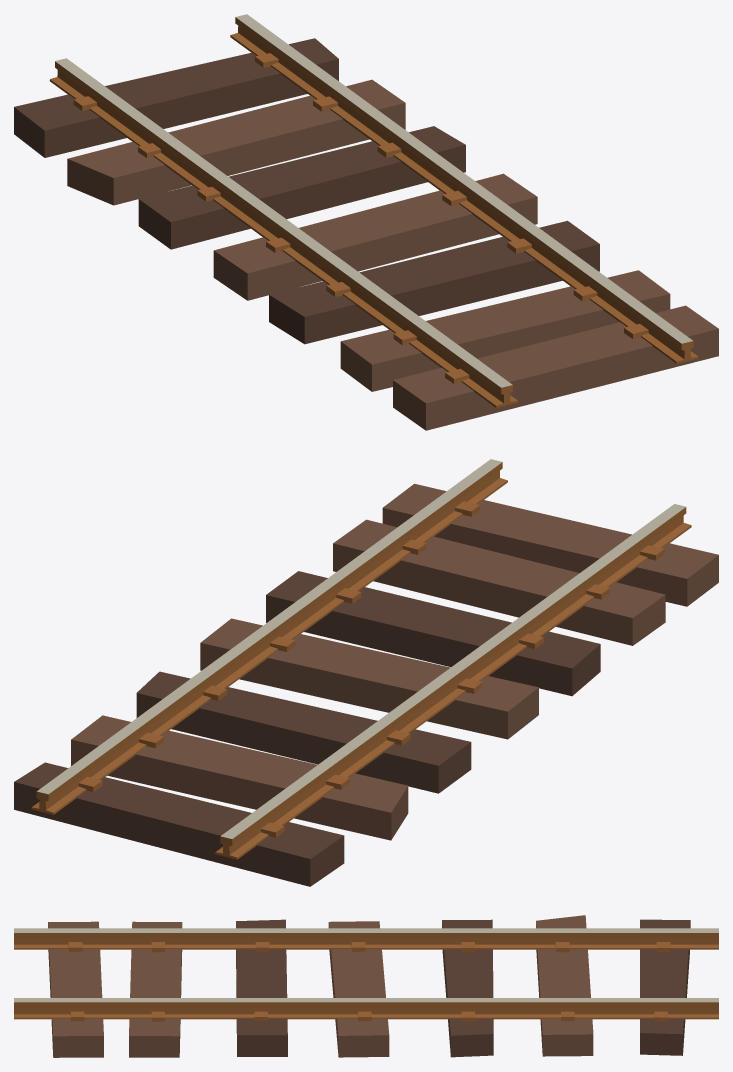
The model's file is Train Track 6 M V01.glb.
3 views of the same model, one above another, from view 1: azimuth 30°, elevation 25°; view 2: azimuth 150°, elevation 25°; view 3: azimuth 270°, elevation 25° (orthographic). The views are drawn at different scales.
Visible parts, largest first — view 1: Train Track 6 M v01; view 2: Train Track 6 M v01; view 3: Train Track 6 M v01.
Part boxes in pixels (box(x1,y1,x2,y2)): Train Track 6 M v01: box(14, 14, 718, 430); Train Track 6 M v01: box(14, 459, 718, 886); Train Track 6 M v01: box(14, 915, 718, 1057).
Size of what is drawn, in the model's own units: 2.44 by 0.3385 by 6.
1 material, 1 textured.
